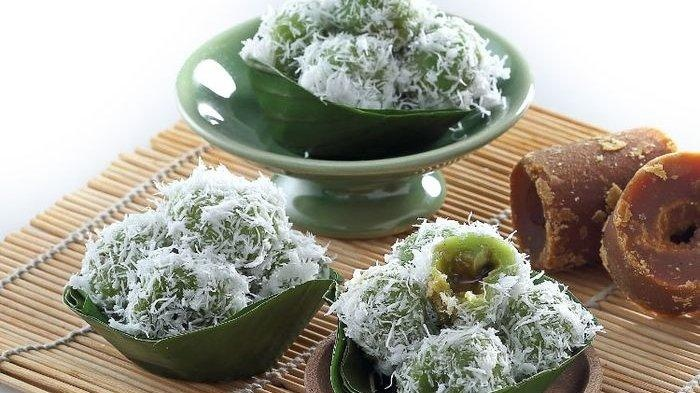klepon: (153, 160, 297, 287), (310, 33, 409, 154)
